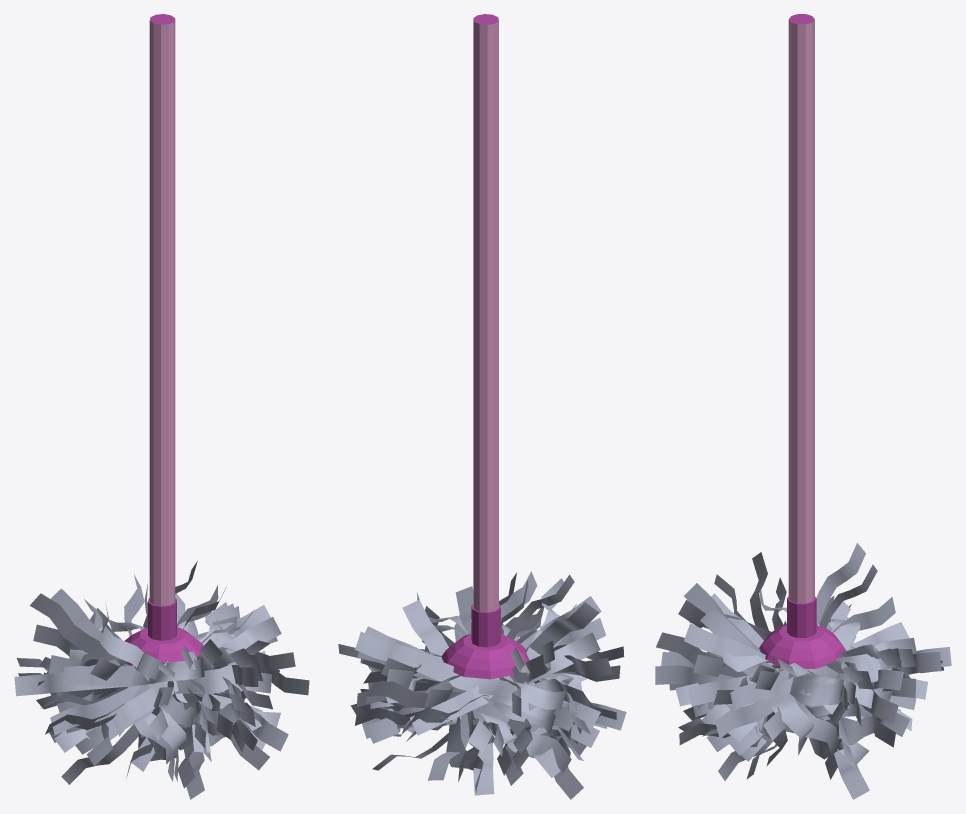
File: mop02.fbx
3 views of the same model, side by side, from view 1: azimuth 30°, elevation 25°; view 2: azimuth 150°, elevation 25°; view 3: azimuth 270°, elevation 25° (orthographic).
Parts seen in each view (by area): view 1: Circle.001, SurfCurve.033, SurfCurve.041, SurfCurve.040, SurfCurve.029, SurfCurve.039, SurfCurve.031, SurfCurve.035, SurfCurve.043, SurfCurve.028, SurfCurve.034, SurfCurve.024 (+16 smaller); view 2: Circle.001, SurfCurve.058, SurfCurve.051, SurfCurve.053, SurfCurve.003, SurfCurve.028, SurfCurve.005, SurfCurve.001, SurfCurve.041, SurfCurve.008, SurfCurve.002, SurfCurve.057 (+18 smaller); view 3: Circle.001, SurfCurve.016, SurfCurve.010, SurfCurve.017, SurfCurve.012, SurfCurve.022, SurfCurve.014, SurfCurve.058, SurfCurve.007, SurfCurve.040, SurfCurve.013, SurfCurve.011 (+19 smaller).
Boxes of the visible parts, left/top/right/bottom form: Circle.001: left=125, top=14, right=203, bottom=668; SurfCurve.033: left=50, top=662, right=262, bottom=735; SurfCurve.041: left=14, top=657, right=204, bottom=696; SurfCurve.040: left=30, top=593, right=177, bottom=764; SurfCurve.029: left=120, top=617, right=281, bottom=725; SurfCurve.039: left=50, top=588, right=186, bottom=752; SurfCurve.031: left=63, top=665, right=271, bottom=693; SurfCurve.035: left=61, top=703, right=261, bottom=784; SurfCurve.043: left=33, top=624, right=196, bottom=738; SurfCurve.028: left=100, top=626, right=280, bottom=727; SurfCurve.034: left=45, top=702, right=257, bottom=750; SurfCurve.024: left=190, top=603, right=238, bottom=725; Circle.001: left=441, top=14, right=529, bottom=679; SurfCurve.058: left=355, top=631, right=566, bottom=709; SurfCurve.051: left=410, top=632, right=600, bottom=735; SurfCurve.053: left=366, top=681, right=571, bottom=773; SurfCurve.003: left=402, top=599, right=516, bottom=744; SurfCurve.028: left=525, top=602, right=599, bottom=654; SurfCurve.005: left=338, top=644, right=483, bottom=792; SurfCurve.001: left=365, top=626, right=557, bottom=720; SurfCurve.041: left=526, top=578, right=590, bottom=734; SurfCurve.008: left=432, top=586, right=473, bottom=727; SurfCurve.002: left=357, top=652, right=555, bottom=733; SurfCurve.057: left=355, top=707, right=570, bottom=756; Circle.001: left=759, top=14, right=846, bottom=668; SurfCurve.016: left=655, top=665, right=847, bottom=710; SurfCurve.010: left=715, top=649, right=916, bottom=738; SurfCurve.017: left=656, top=632, right=838, bottom=757; SurfCurve.012: left=684, top=623, right=892, bottom=708; SurfCurve.022: left=684, top=583, right=814, bottom=742; SurfCurve.014: left=688, top=648, right=901, bottom=706; SurfCurve.058: left=830, top=601, right=901, bottom=665; SurfCurve.007: left=730, top=637, right=916, bottom=710; SurfCurve.040: left=816, top=543, right=865, bottom=625; SurfCurve.013: left=700, top=606, right=869, bottom=764; SurfCurve.011: left=679, top=705, right=881, bottom=745.
Bounding box in the file's own units: 11.47 × 32.24 × 11.63.
